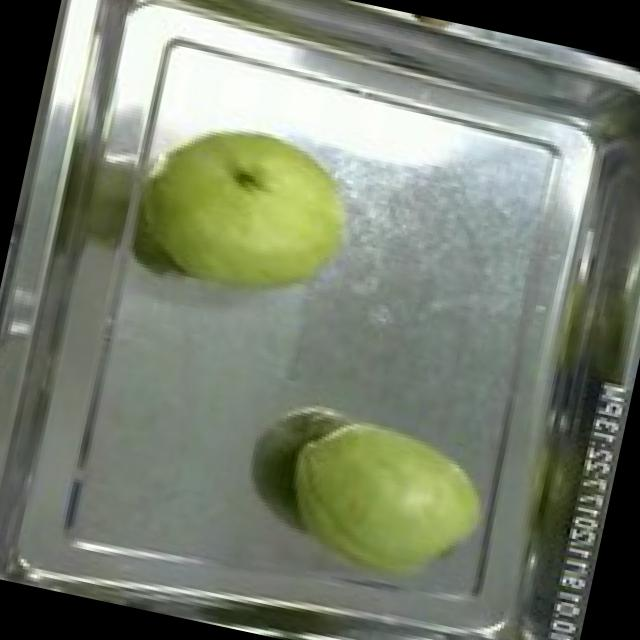Fruit: (125, 94, 378, 327), (258, 394, 511, 624)
